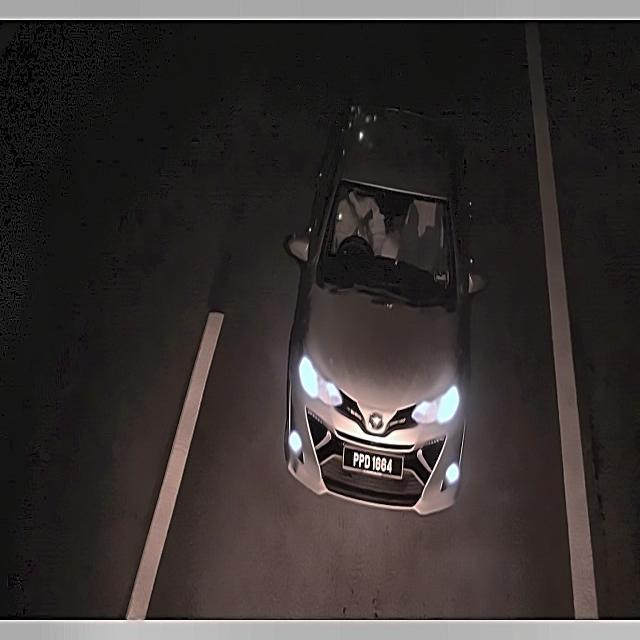car: (340, 436, 408, 487)
